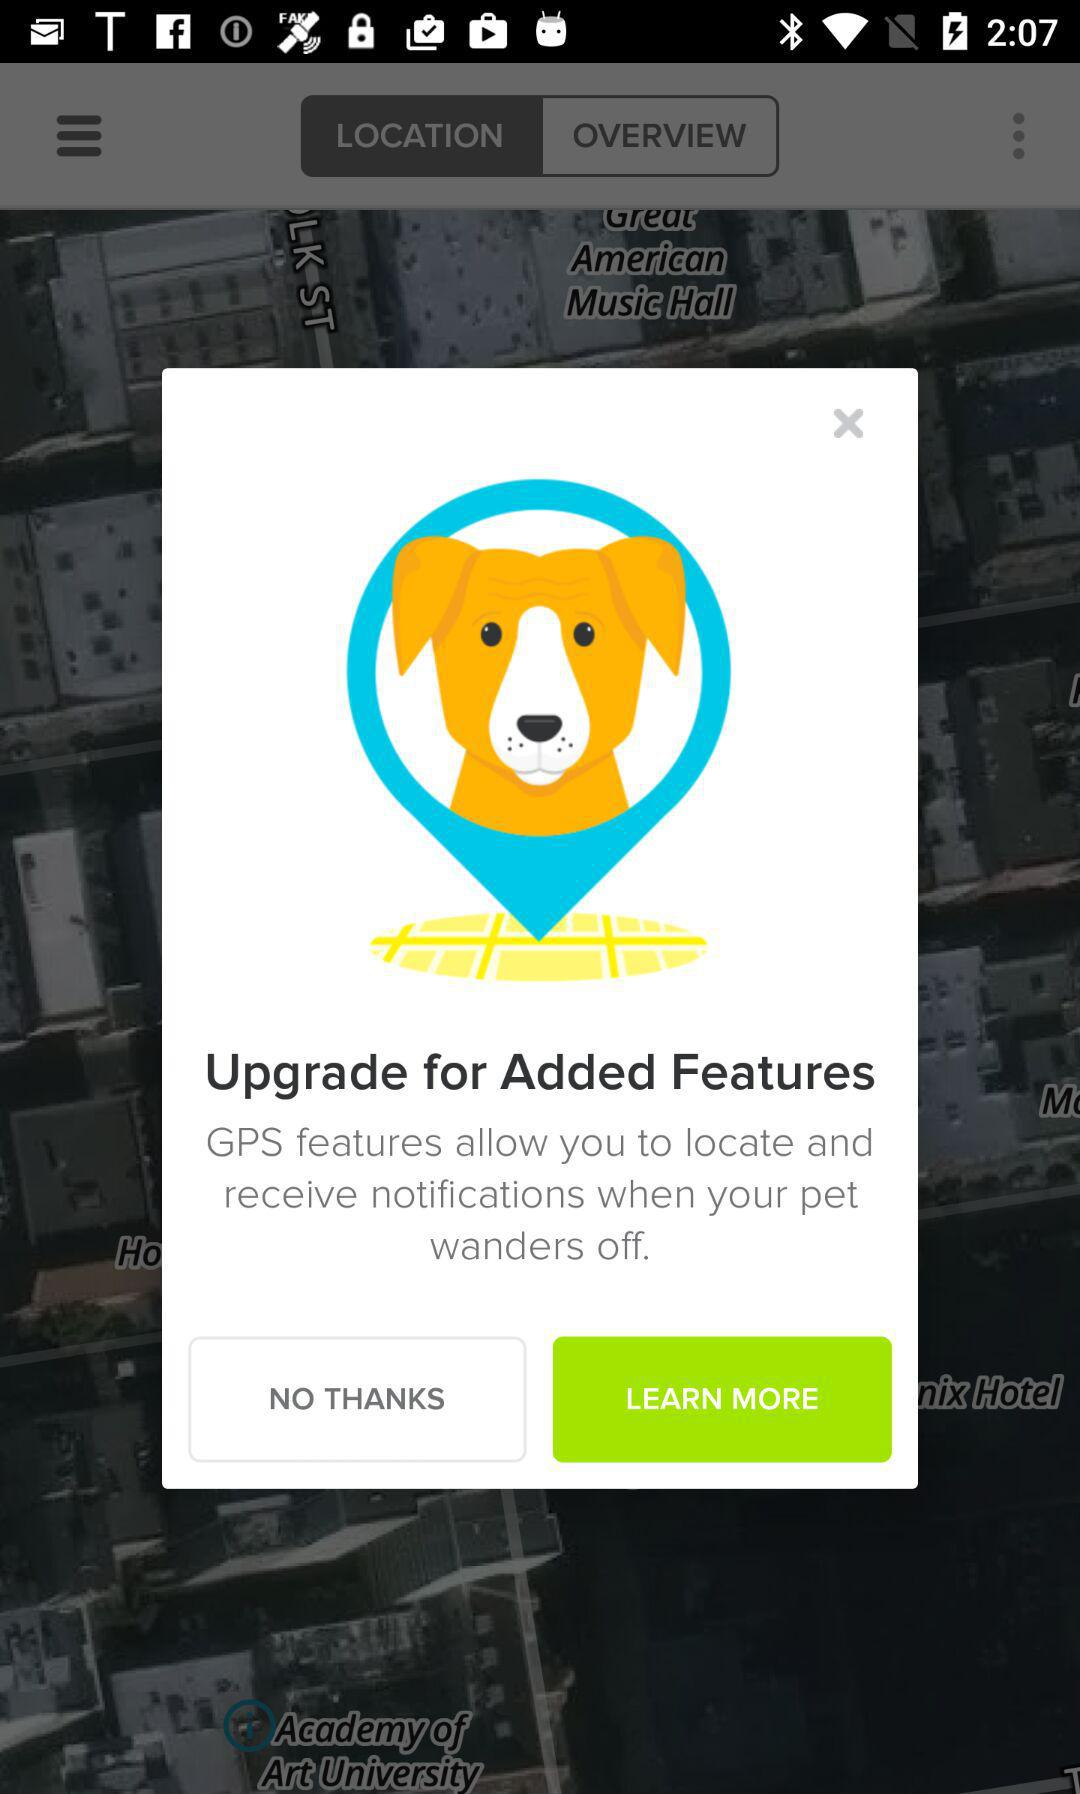Icon: (56, 115, 104, 159), (833, 407, 865, 438), (1011, 113, 1026, 161)
Image: (347, 478, 734, 989)
Modal: (161, 369, 919, 1489)
Text: (209, 1126, 872, 1260), (208, 1053, 875, 1099)
TextButton: (553, 1337, 892, 1463), (190, 1337, 528, 1463), (300, 95, 543, 179), (543, 96, 780, 179)
UpperTaskBar: (1, 1, 1080, 64)
